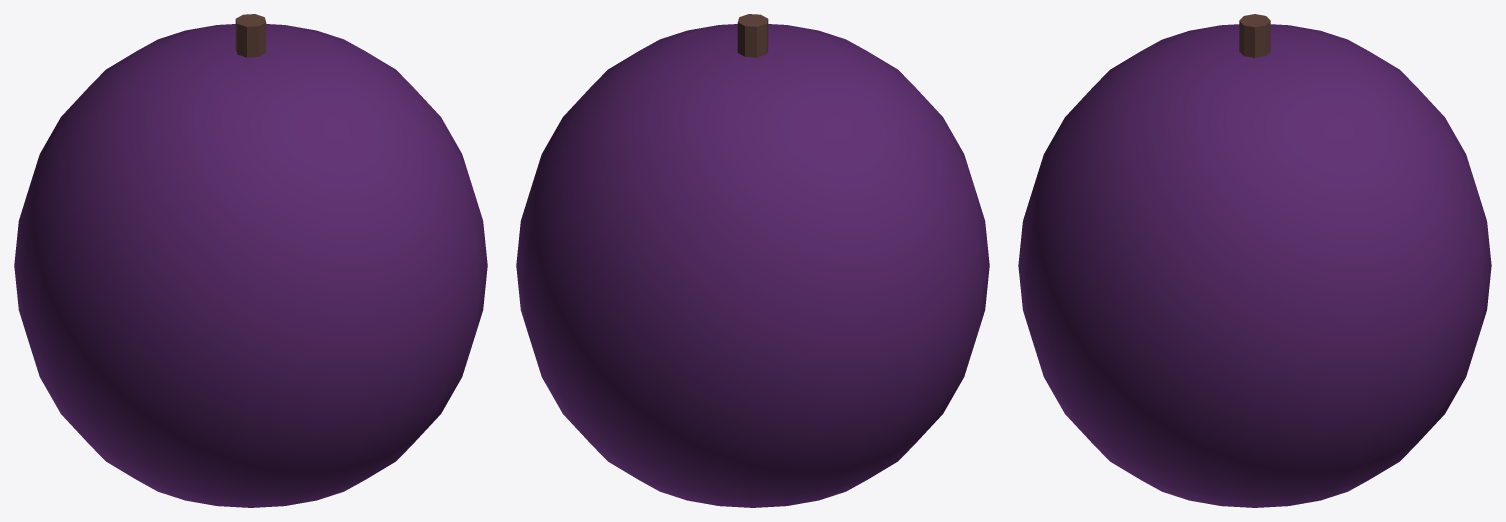
Rendered from Plum.fbx.
The picture shows the model from 3 angles, left to right: view 1: azimuth 30°, elevation 25°; view 2: azimuth 150°, elevation 25°; view 3: azimuth 270°, elevation 25°; orthographic projection.
Visible parts, largest first — view 1: Plum; view 2: Plum; view 3: Plum.
Boxes of the visible parts, <box> form: Plum: <box>14,14,487,507</box>; Plum: <box>516,14,989,507</box>; Plum: <box>1018,14,1491,507</box>.
Size of the model in its own units: 0.06 by 0.0644 by 0.06.
